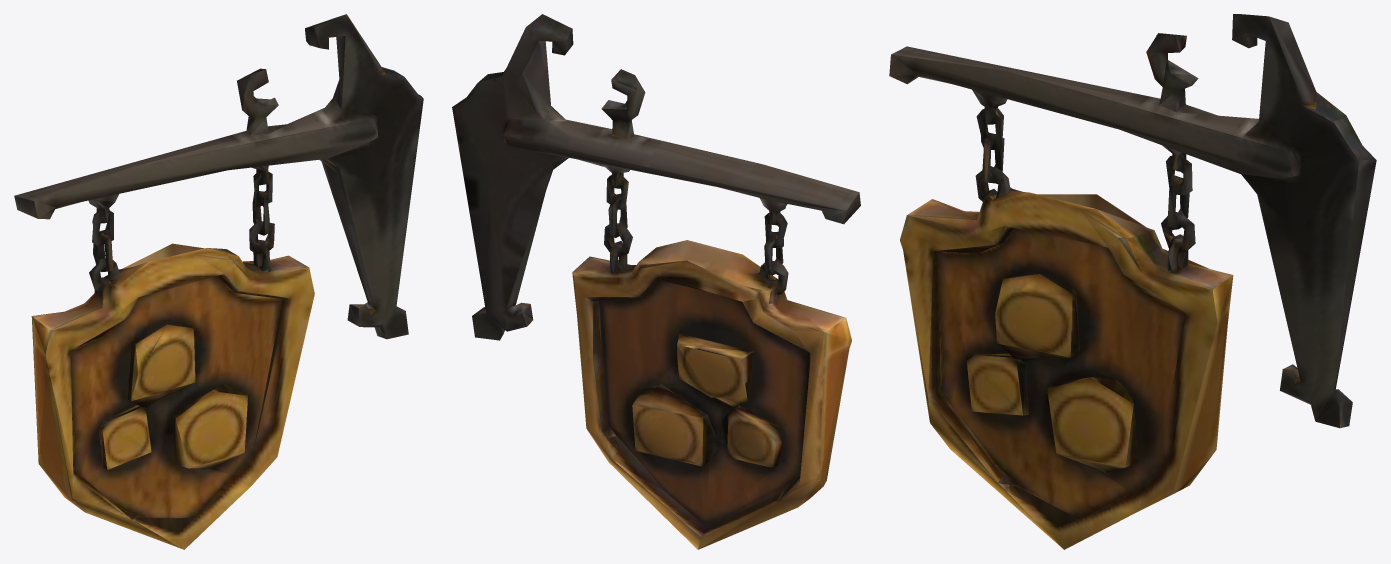
The model's file is obj_sign_bank.glb.
3 renders of one model, left to right at view 1: azimuth 30°, elevation 25°; view 2: azimuth 150°, elevation 25°; view 3: azimuth 330°, elevation 25°, orthographic. The views are drawn at different scales.
Parts seen in each view (by area): view 1: Mesh_0.007; view 2: Mesh_0.007; view 3: Mesh_0.007.
Boxes of the visible parts, <box> form: Mesh_0.007: <box>14,14,423,549</box>; Mesh_0.007: <box>452,14,860,549</box>; Mesh_0.007: <box>889,14,1376,549</box>.
Bounding box in the file's own units: 1.69 × 1.98 × 0.2331.
1 material, 1 textured.
